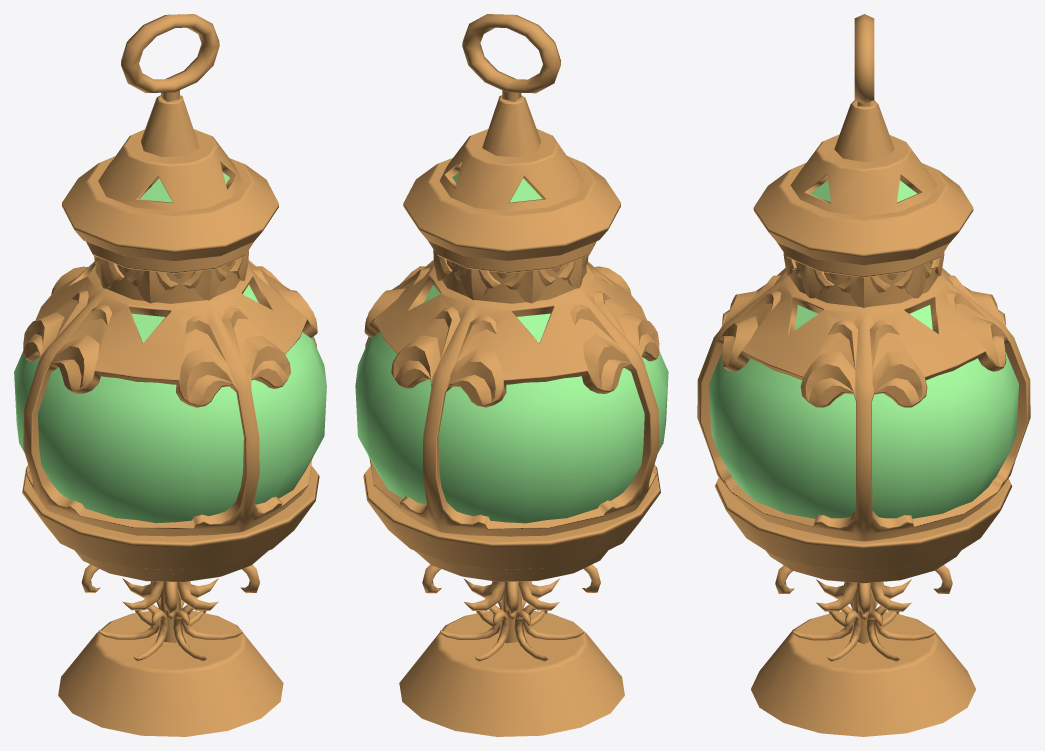
File: Hieronymus_Original_HolyRelic.fbx
3 views of the same model, side by side, from view 1: azimuth 30°, elevation 25°; view 2: azimuth 150°, elevation 25°; view 3: azimuth 270°, elevation 25° (orthographic).
Parts seen in each view (by area): view 1: Hieronymus_Original_HolyRelic_body; view 2: Hieronymus_Original_HolyRelic_body; view 3: Hieronymus_Original_HolyRelic_body.
Boxes of the visible parts, bbox=[...] form: Hieronymus_Original_HolyRelic_body: bbox=[14, 14, 326, 736]; Hieronymus_Original_HolyRelic_body: bbox=[355, 14, 668, 736]; Hieronymus_Original_HolyRelic_body: bbox=[697, 14, 1030, 736].
Bounding box in the file's own units: 0.5612 × 1.24 × 0.5612.
Materials: 1 (1 with a texture image).
